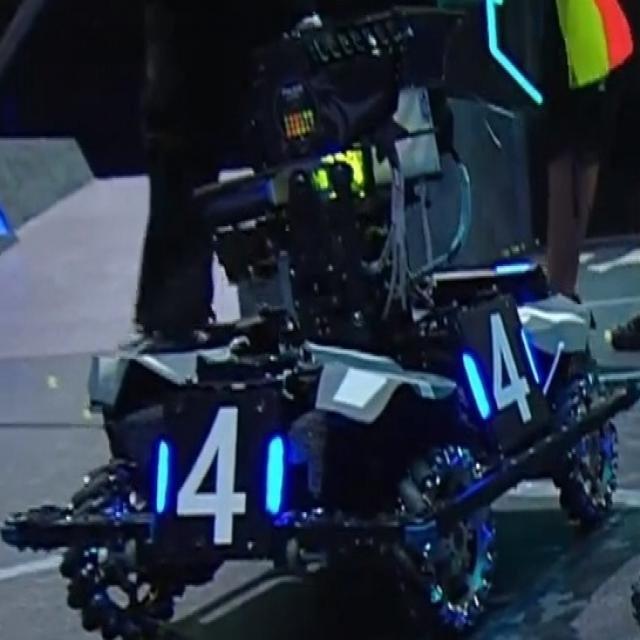B4: (155, 404, 279, 547), (462, 309, 543, 426)
